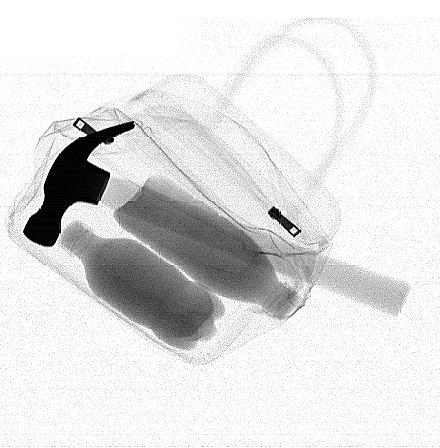Hammer: (23, 120, 413, 319)
